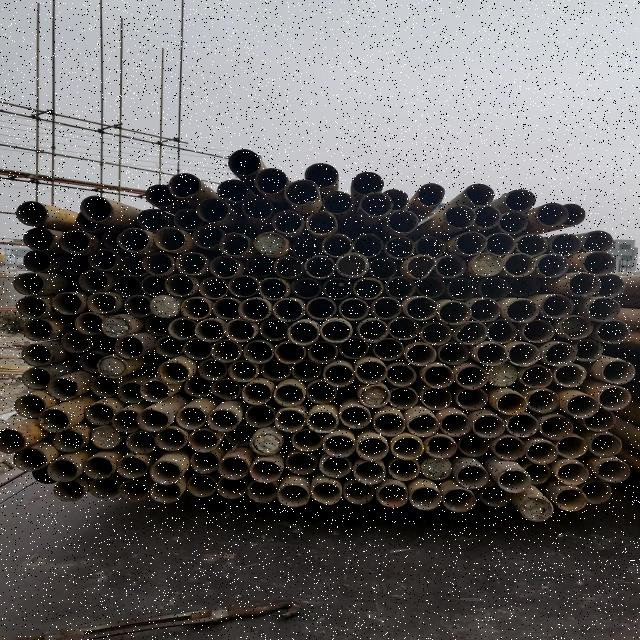pipe: (302, 160, 339, 189), (347, 169, 385, 197), (321, 431, 357, 460), (253, 166, 290, 194), (226, 148, 262, 176), (152, 424, 188, 452), (389, 432, 425, 460), (452, 229, 487, 257), (534, 202, 570, 229), (166, 173, 202, 200), (78, 195, 114, 222), (336, 251, 370, 279), (453, 465, 491, 490), (134, 407, 170, 433), (403, 411, 439, 437), (484, 319, 520, 345), (540, 293, 576, 319), (586, 296, 622, 322), (469, 296, 502, 324), (48, 428, 86, 452), (462, 182, 497, 208), (358, 192, 393, 218), (443, 203, 478, 229), (286, 321, 321, 347), (353, 358, 388, 384), (382, 361, 417, 387), (453, 364, 488, 390), (581, 252, 617, 277), (414, 180, 446, 208), (187, 426, 219, 454), (502, 187, 536, 213), (240, 195, 274, 221), (152, 226, 186, 252), (116, 226, 150, 252), (405, 295, 439, 321), (308, 480, 342, 506), (319, 453, 353, 479), (340, 479, 374, 505), (423, 433, 457, 459), (440, 488, 474, 514), (520, 496, 554, 522), (578, 479, 612, 505), (539, 415, 573, 441), (598, 385, 632, 411), (600, 359, 634, 385), (596, 319, 630, 345), (438, 299, 472, 325), (568, 270, 602, 296), (382, 235, 417, 260), (593, 459, 631, 482), (252, 231, 288, 255), (35, 408, 71, 432), (172, 405, 208, 429), (352, 461, 388, 485), (554, 462, 590, 486), (588, 433, 624, 457), (518, 364, 554, 388), (338, 403, 371, 429), (322, 363, 356, 388), (44, 376, 78, 401), (248, 459, 282, 484), (497, 468, 531, 493), (506, 413, 540, 438), (553, 362, 587, 387), (542, 341, 576, 366), (419, 457, 454, 481), (474, 342, 509, 366), (436, 342, 471, 366), (433, 253, 468, 277), (306, 208, 338, 234), (321, 232, 353, 258), (304, 253, 336, 279), (100, 313, 132, 339), (320, 317, 352, 343), (150, 481, 182, 507), (215, 476, 247, 502), (274, 407, 306, 433), (375, 483, 407, 509), (404, 340, 436, 366), (404, 253, 436, 279), (154, 361, 190, 384), (14, 200, 48, 224), (135, 208, 169, 232), (196, 199, 230, 223), (270, 210, 304, 234), (516, 231, 550, 255), (218, 232, 252, 256), (190, 224, 224, 248), (174, 252, 208, 276), (208, 256, 242, 280), (271, 297, 305, 321), (238, 297, 272, 321), (274, 340, 308, 364), (81, 402, 115, 426), (136, 378, 170, 402), (148, 460, 182, 484), (206, 408, 240, 432), (242, 404, 276, 428), (248, 432, 282, 456), (276, 484, 310, 508), (372, 413, 406, 437), (357, 383, 391, 407), (408, 487, 442, 511), (438, 412, 472, 436), (422, 364, 456, 388), (525, 441, 559, 465), (555, 435, 589, 459), (492, 436, 526, 460), (472, 414, 506, 438), (582, 407, 616, 431), (455, 321, 489, 345), (522, 319, 556, 343), (560, 314, 594, 338), (536, 252, 570, 276), (84, 454, 115, 480), (125, 430, 156, 456), (258, 276, 290, 301), (218, 456, 250, 481), (527, 388, 559, 413), (486, 362, 518, 387), (507, 297, 539, 322), (504, 253, 536, 278), (15, 295, 48, 319), (193, 318, 226, 342), (478, 276, 511, 300), (414, 235, 448, 258), (50, 291, 84, 314), (184, 474, 218, 497), (216, 178, 246, 204), (146, 183, 176, 209), (352, 232, 382, 258), (322, 190, 354, 214), (387, 210, 419, 234), (581, 228, 613, 252), (550, 233, 582, 257), (486, 232, 518, 256), (142, 252, 174, 276), (352, 276, 384, 300), (370, 296, 402, 320), (180, 296, 212, 320), (258, 318, 290, 342), (356, 318, 388, 342), (96, 356, 128, 380), (306, 340, 338, 364), (337, 335, 369, 359), (14, 394, 46, 418), (88, 425, 120, 449), (88, 373, 120, 397), (116, 455, 148, 479), (118, 479, 150, 503), (210, 377, 242, 401), (240, 382, 272, 406), (273, 383, 305, 407), (306, 380, 338, 404), (356, 437, 388, 461), (458, 433, 490, 457), (554, 487, 586, 511), (496, 392, 528, 416), (566, 393, 598, 417), (508, 342, 540, 366), (472, 252, 504, 276), (244, 339, 274, 364), (112, 409, 142, 434), (389, 316, 419, 341), (164, 274, 198, 296), (86, 291, 120, 313), (61, 330, 92, 354), (87, 476, 119, 499), (246, 480, 278, 503), (480, 484, 512, 507), (597, 272, 625, 298), (13, 447, 46, 469), (388, 459, 421, 481), (471, 205, 501, 229), (499, 211, 529, 235), (274, 255, 304, 279), (368, 256, 398, 280), (306, 296, 336, 320), (149, 294, 179, 318), (74, 312, 104, 336), (166, 318, 196, 342), (223, 320, 259, 340), (21, 367, 51, 391), (114, 335, 144, 359), (197, 358, 227, 382), (222, 423, 252, 447), (522, 461, 552, 485), (573, 338, 603, 362), (446, 277, 476, 301), (51, 481, 85, 502), (58, 230, 90, 252), (22, 228, 54, 250), (13, 272, 45, 294), (228, 275, 260, 297), (290, 277, 322, 299), (322, 278, 354, 300), (384, 275, 416, 297), (338, 298, 370, 320), (210, 340, 242, 362), (228, 360, 260, 382), (187, 452, 219, 474), (306, 410, 338, 432), (286, 452, 318, 474), (388, 388, 420, 410), (456, 388, 488, 410), (420, 323, 452, 345), (508, 274, 540, 296), (101, 225, 127, 252), (115, 381, 144, 405), (260, 359, 290, 382), (290, 359, 320, 382), (48, 459, 78, 482), (560, 202, 586, 228), (113, 275, 141, 299), (123, 294, 151, 318), (174, 208, 204, 230), (22, 250, 52, 272), (198, 278, 228, 300), (212, 298, 242, 320), (22, 320, 52, 342), (20, 343, 50, 365), (373, 338, 403, 360), (292, 430, 322, 452), (422, 388, 452, 410), (415, 275, 445, 297), (246, 255, 274, 278), (184, 337, 212, 360), (80, 271, 112, 291), (59, 254, 88, 276), (293, 236, 321, 258), (89, 250, 117, 272), (140, 275, 168, 297), (144, 314, 172, 336), (154, 336, 182, 358), (74, 212, 104, 232), (382, 188, 409, 210), (121, 254, 148, 276), (183, 376, 211, 397), (1, 428, 24, 453), (77, 352, 103, 372), (29, 468, 57, 486), (148, 352, 174, 370)
